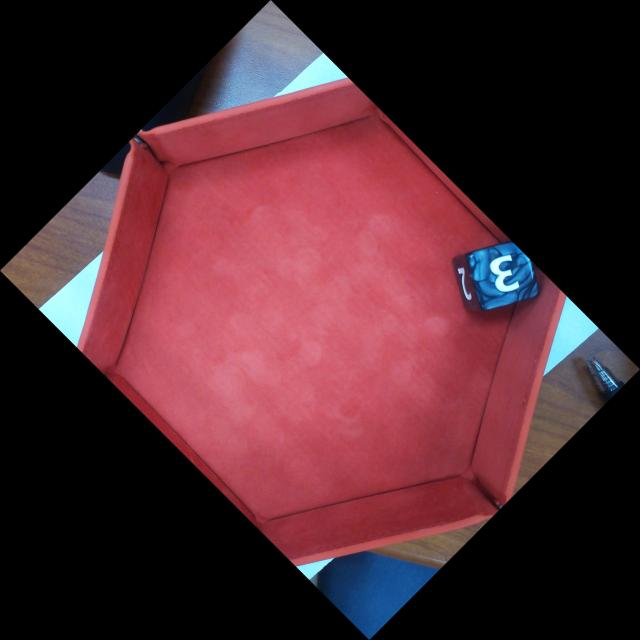dice: (467, 240, 542, 310)
